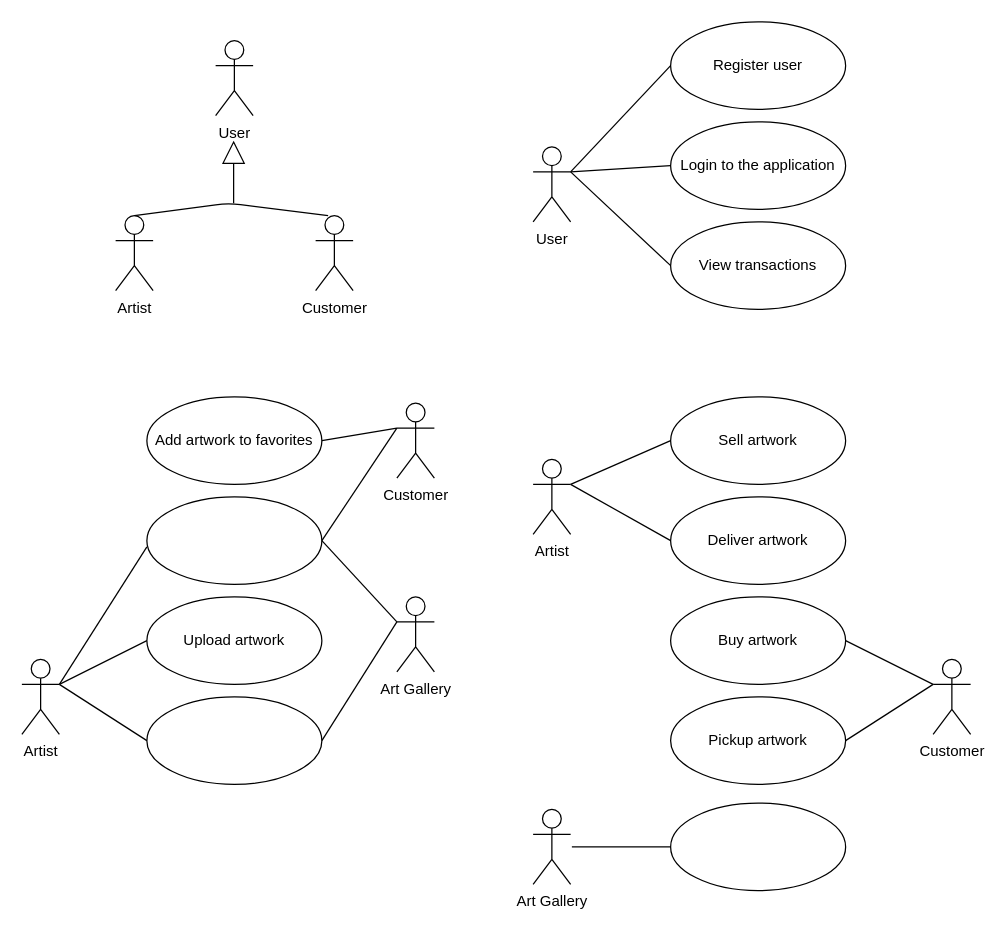
The diagram is 1006 pixels wide and 933 high, and some of its shapes have lost their labels. Here are the shapes that lost their labels. From the top down, the centre of each, then its label:
At (x=234, y=540): "Browse artwork".
At (x=234, y=740): "Remove artwork".
At (x=757, y=846): "Take commission".
